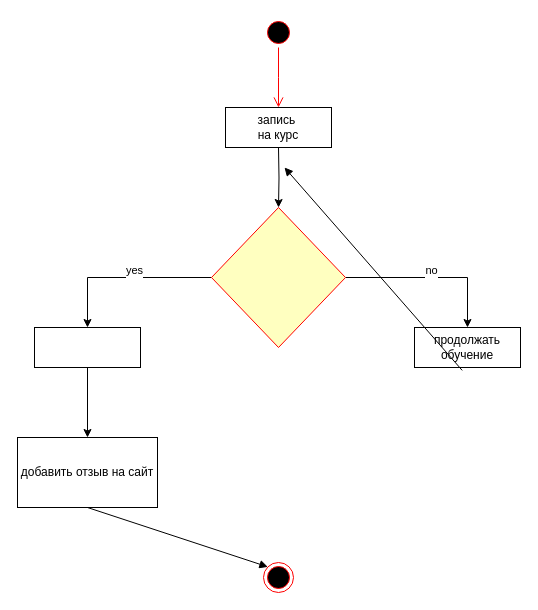
Image size: 538x610. Some labels were removed from this diagram. The shapes that lost their labels are listed below. From the top down, each one's centre as x and y in pixels, then its label:
At pixel 278 277: "Студент закончил курс?".
At pixel 87 347: "Преподаватель курсов оставляет отзыв".
